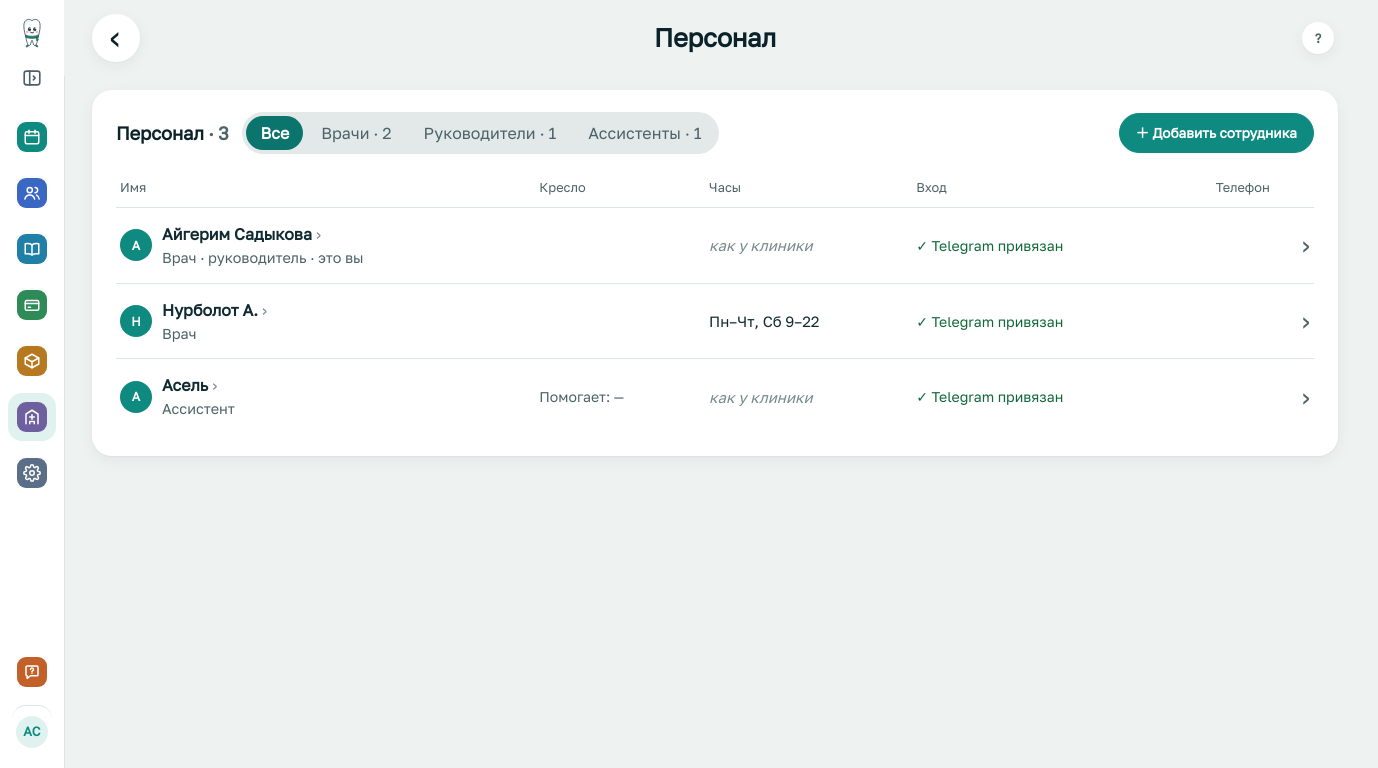
it: карточка сотрудника: «как у клиники»; нажатие открывает его неделю в «Графике»
Click the button "Асель" at (190, 385), box [162, 373, 217, 397]
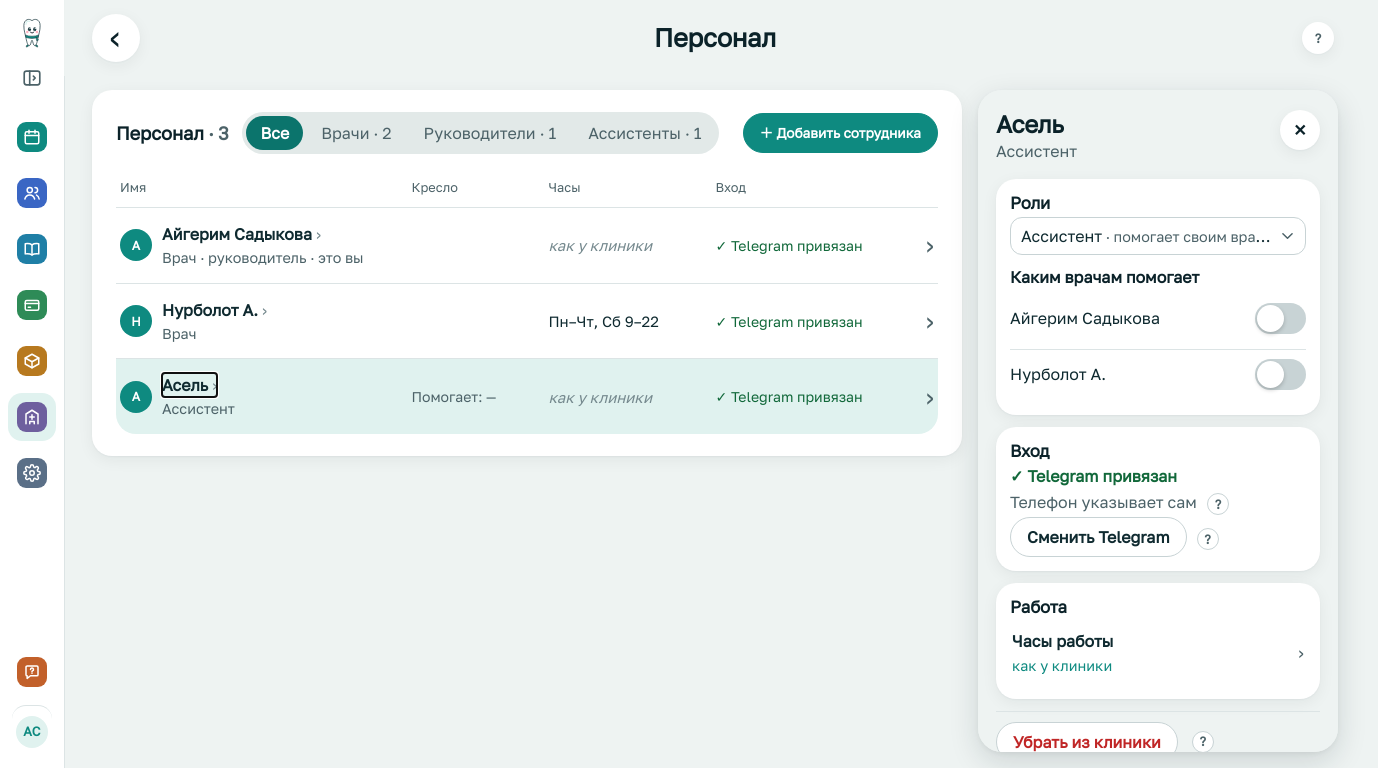
Click the button with aria-label "Часы работы: как у клиники — открыть в «Рабочем времени»" at (1063, 641), box [1010, 621, 1306, 685]
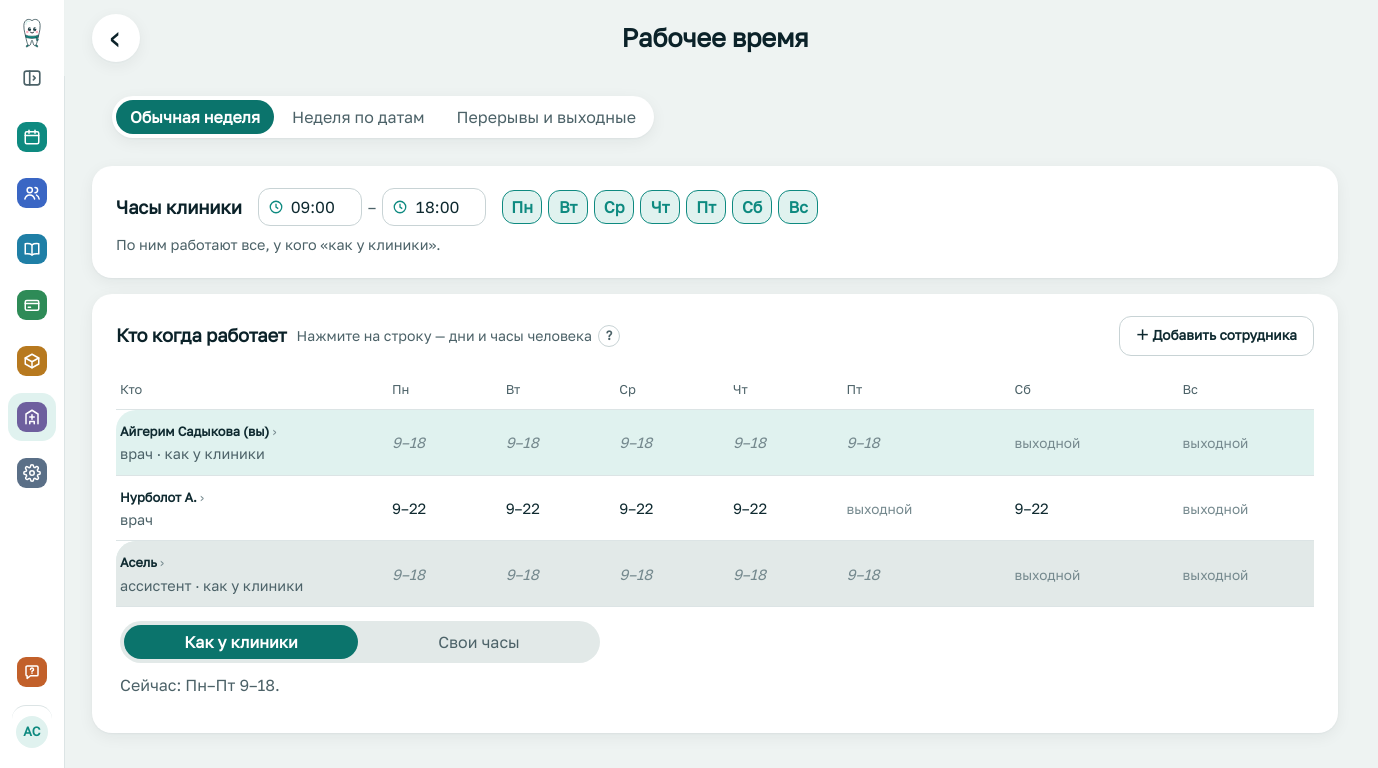
expect the button "Асель" is expanded: met, box [120, 553, 360, 573]
